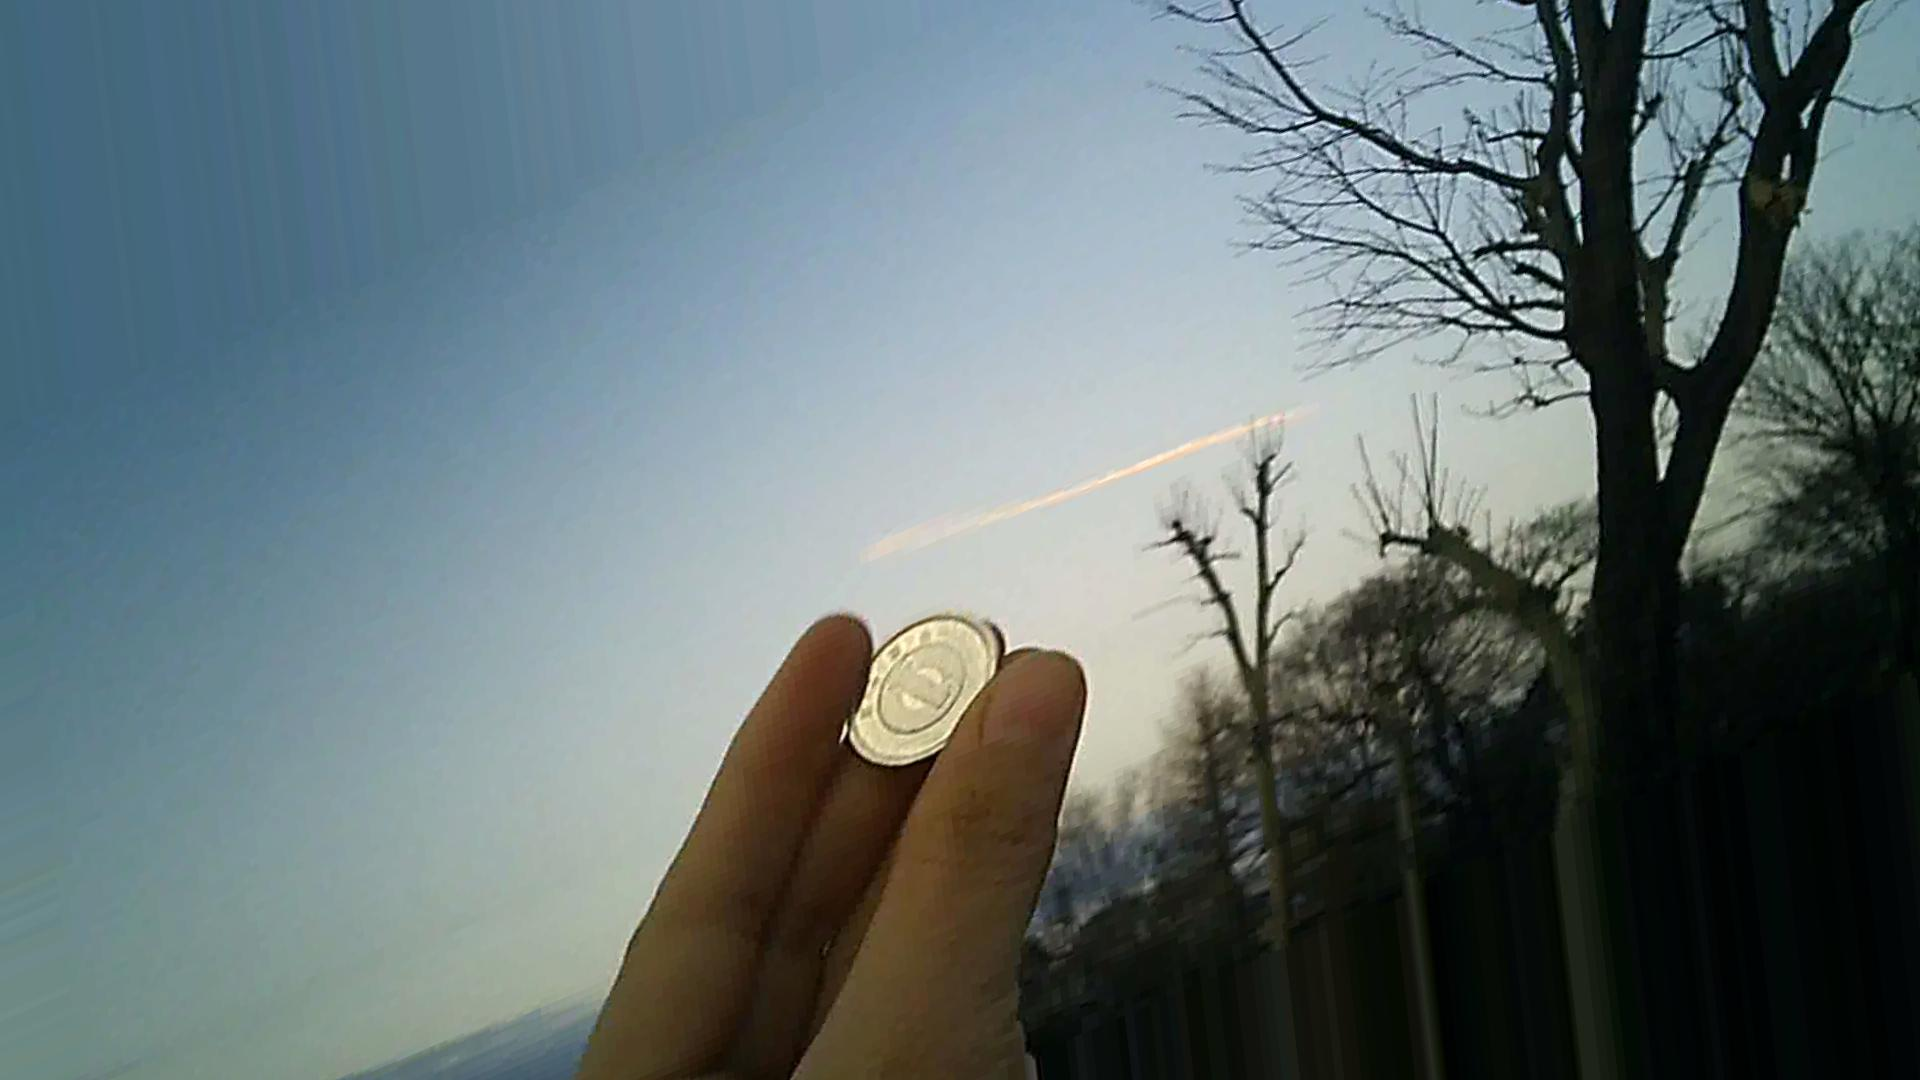1 Yen: (843, 608, 1000, 766)
